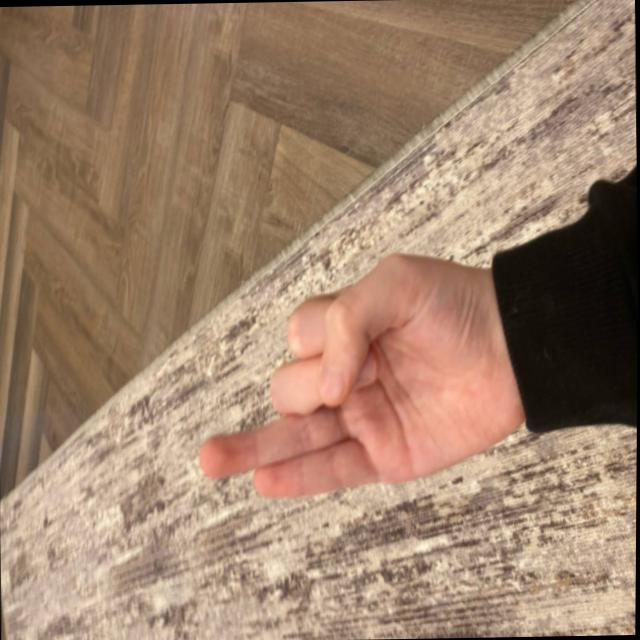i: (196, 228, 509, 529)
